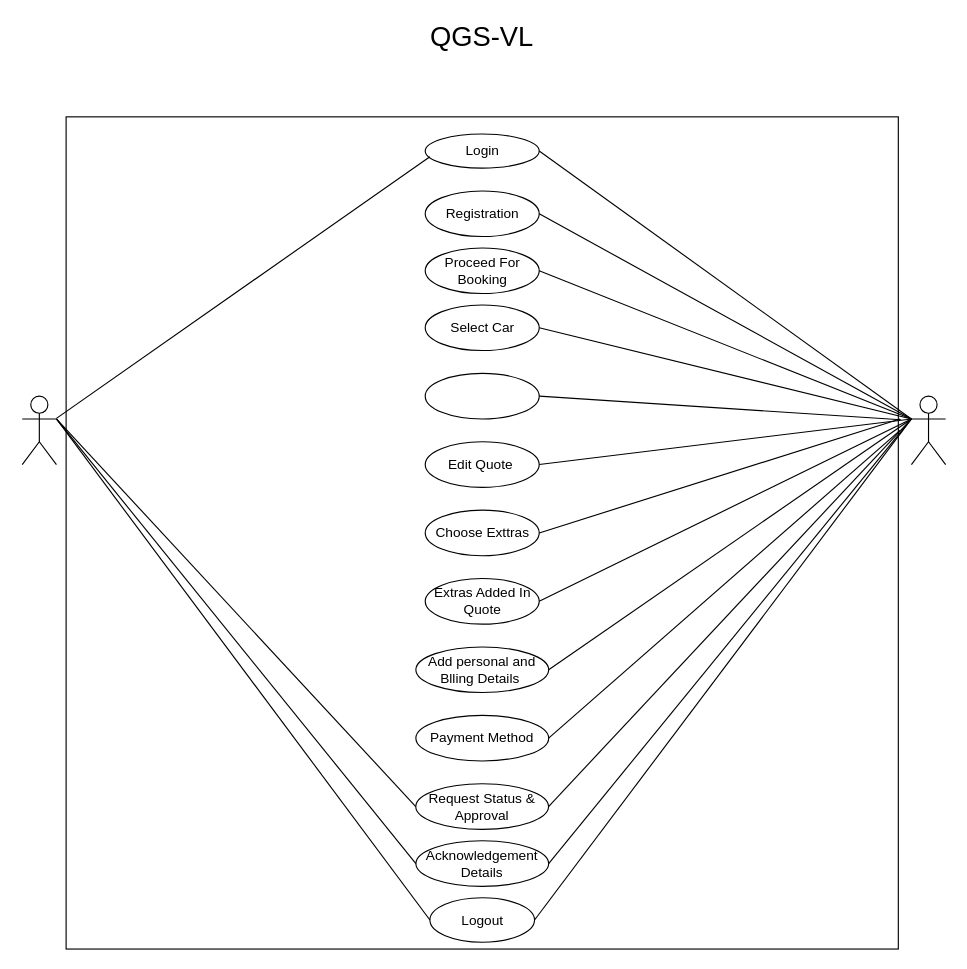
This 967x969 diagram has some shape labels left out. The centre of each missing label's shape, as x and y in pixels:
"Admin" belongs at point (38, 430).
"Car Added In Quote" belongs at point (481, 395).
"USER" belongs at point (928, 430).
